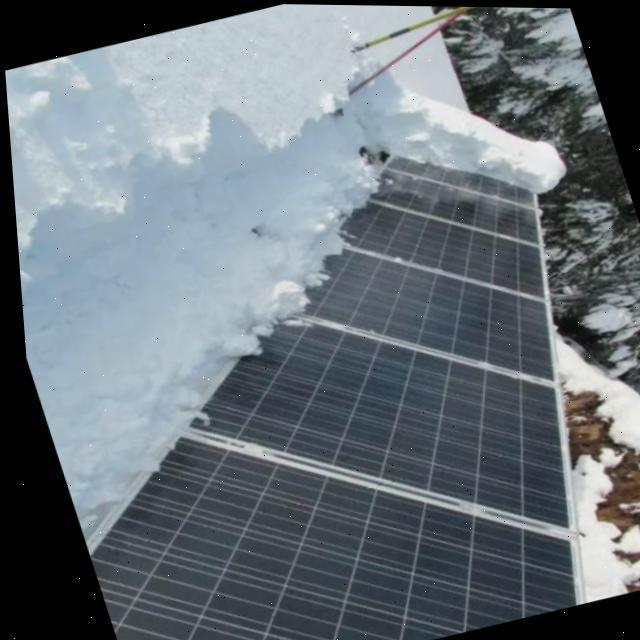Anomaly Solar Panel: (71, 420, 573, 640), (153, 305, 567, 528), (248, 230, 551, 378), (311, 189, 543, 297), (349, 163, 537, 242), (368, 143, 534, 205)
Snow: (4, 3, 468, 545), (373, 79, 557, 196)
